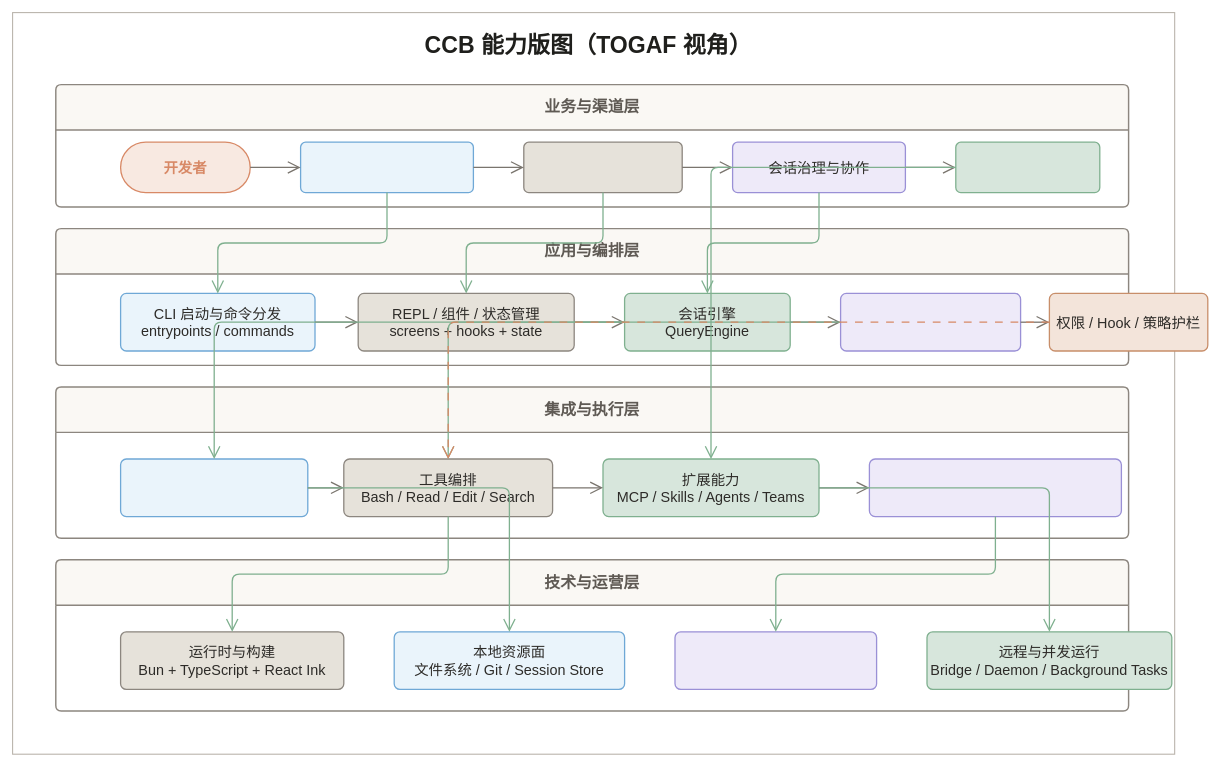
The diagram is 1221 pixels wide and 768 high, and some of its shapes have lost their labels. Each missing label, with the centre of its shape:
上下文构建 git / memory / prompt: the point at 214,487
扩展生态消费: the point at 1027,167
查询主循环 query + compaction: the point at 930,321
模型接入层 Anthropic / Bedrock / Vertex / Foundry: the point at 995,487
终端与 IDE 入口: the point at 387,167
编码助手体验: the point at 602,167
运维能力 CI / Build / Health Check: the point at 775,660
